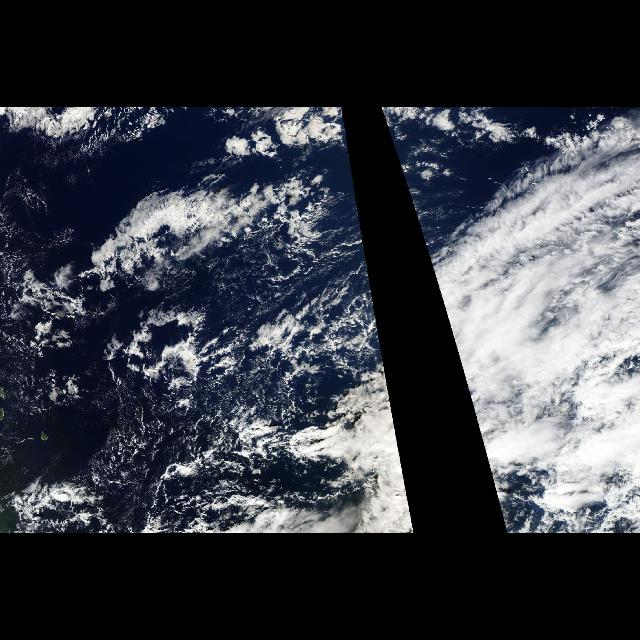Gravel: (60, 304, 398, 498)
